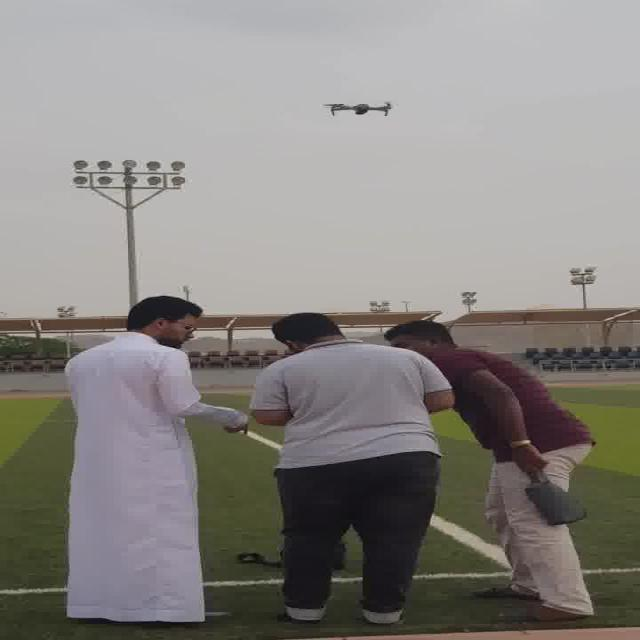drone: (310, 99, 398, 119)
